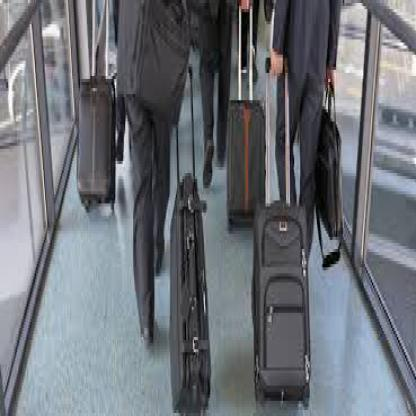maleta: (247, 200, 312, 413), (162, 170, 216, 413), (225, 76, 273, 261), (75, 60, 123, 228)
